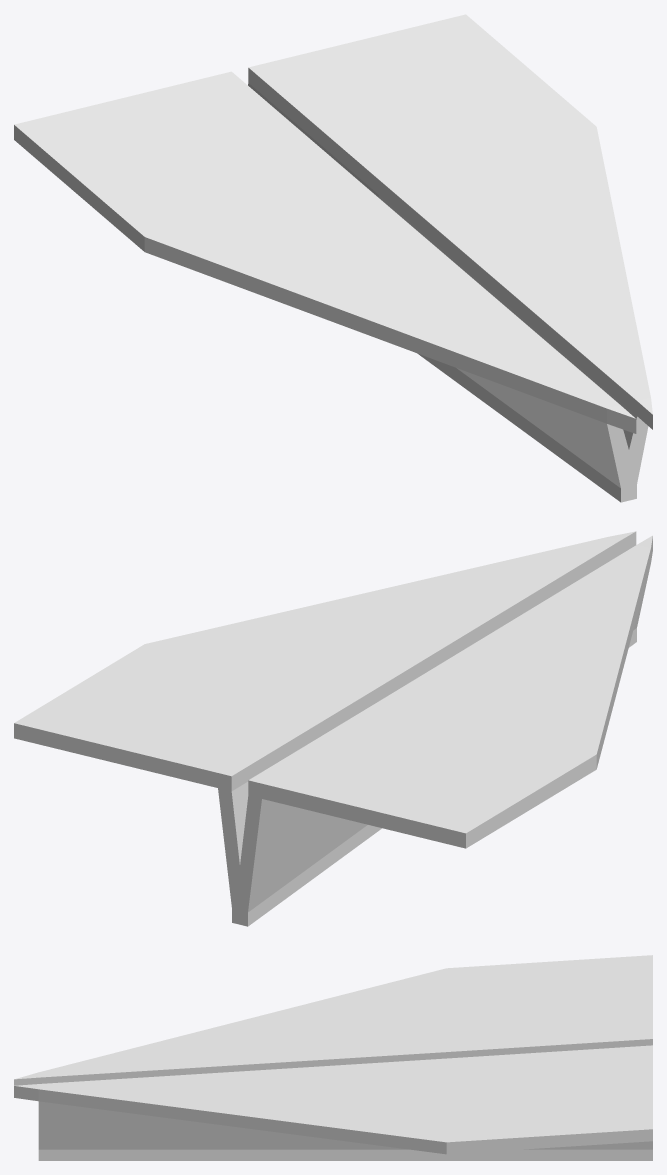
File: Avião de Papel.FBX
The picture shows the model from 3 angles, top to bottom: view 1: azimuth 30°, elevation 25°; view 2: azimuth 150°, elevation 25°; view 3: azimuth 270°, elevation 25°; orthographic projection. The views are drawn at different scales.
Parts seen in each view (by area): view 1: Box012; view 2: Box012; view 3: Box012.
Part boxes in pixels (<box>): Box012: <box>14,14,652,502</box>; Box012: <box>14,531,652,926</box>; Box012: <box>14,955,652,1160</box>.
Size of the model in its own units: 49.06 by 15.19 by 76.08.
